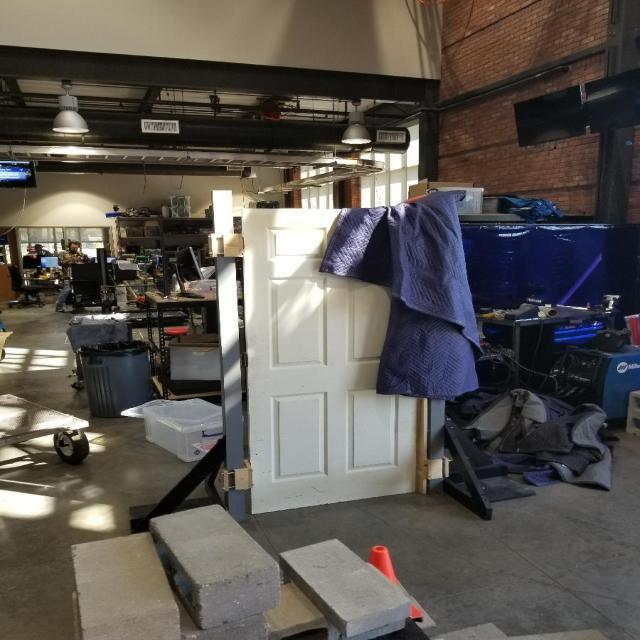door: (238, 205, 424, 520)
